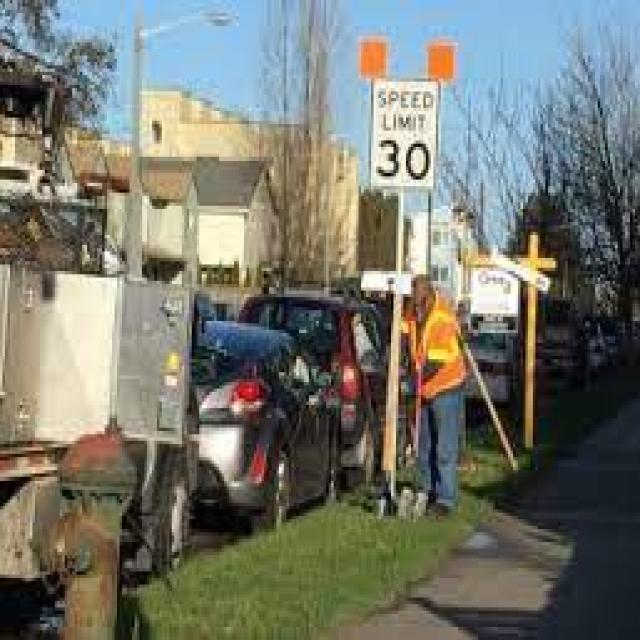speedLimit30: (369, 77, 438, 191)
